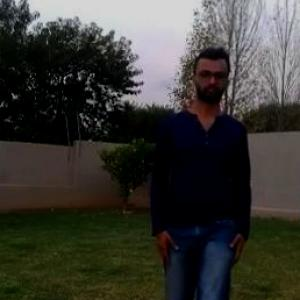follow: (160, 49, 246, 299)
